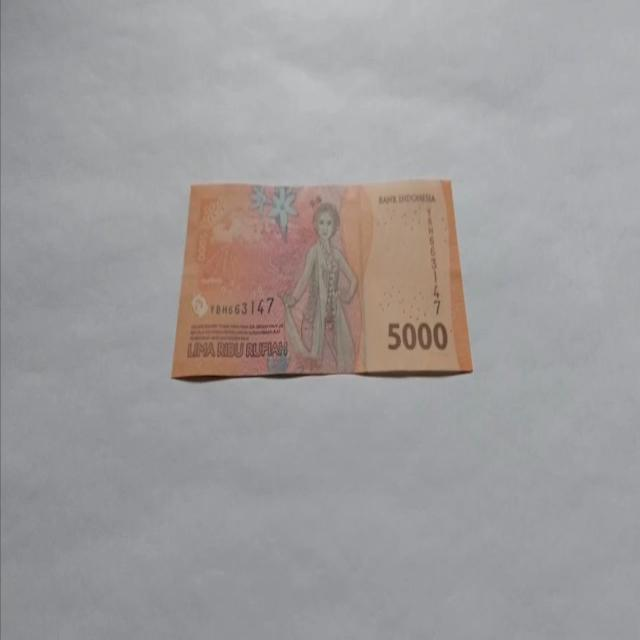lima ribu rupiah: (171, 178, 474, 380), (276, 200, 360, 373)
